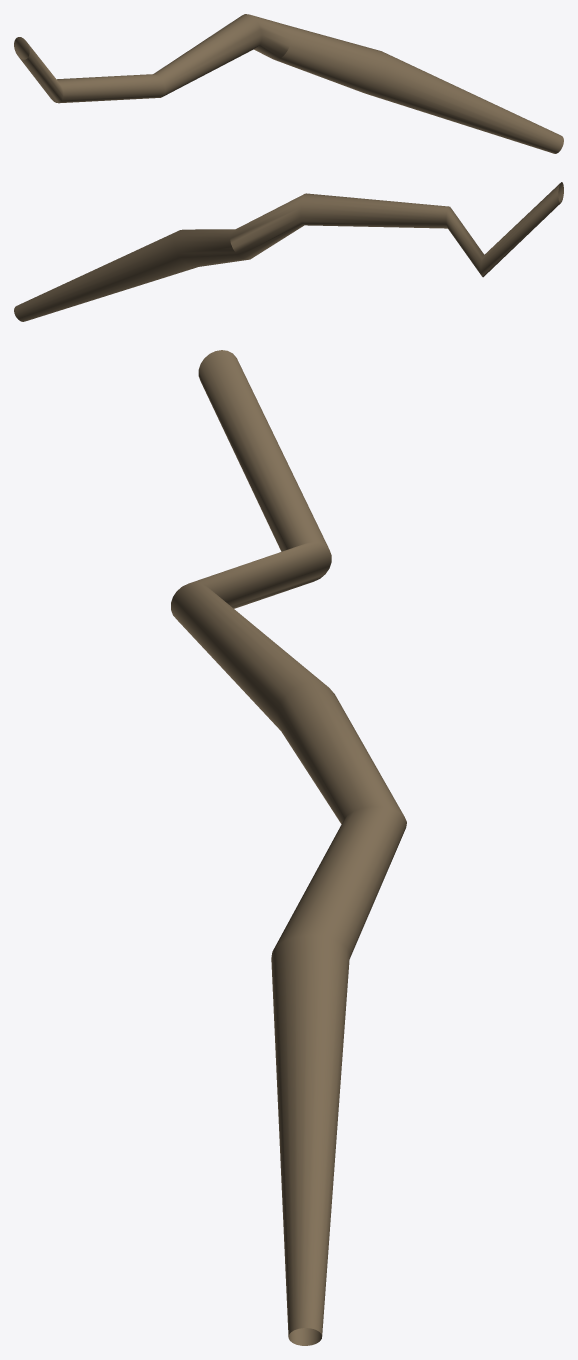
File: branch1.fbx
3 views of the same model, one above another, from view 1: azimuth 30°, elevation 25°; view 2: azimuth 150°, elevation 25°; view 3: azimuth 270°, elevation 25° (orthographic). The views are drawn at different scales.
Parts seen in each view (by area): view 1: branch; view 2: branch; view 3: branch.
Boxes of the visible parts, <box> form: branch: <box>14,14,563,153</box>; branch: <box>14,182,563,321</box>; branch: <box>171,350,406,1345</box>.
Size of the model in its own units: 0.0165 by 0.00743 by 0.00321.
